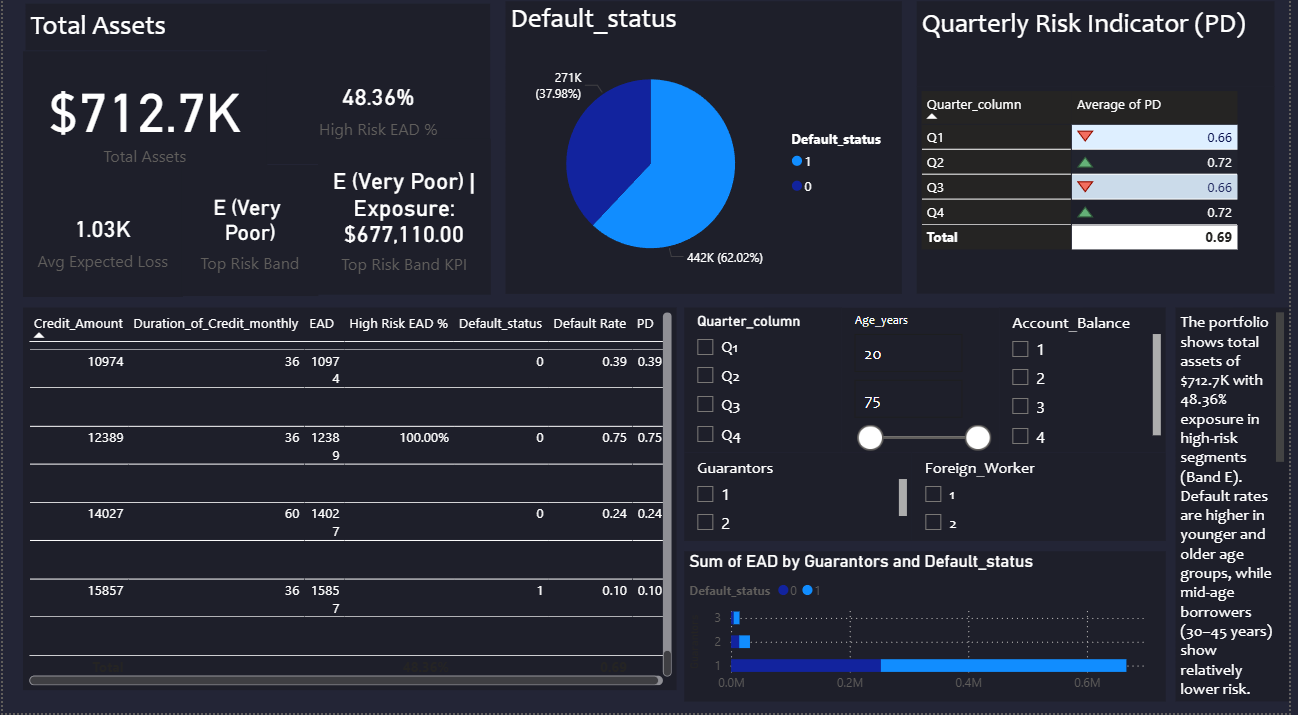

The page's visual inventory and layout, read from the dashboard file:
{"tool":"powerbi","page":{"name":"Page 1","canvas":[1280,720],"ordinal":0},"visuals":[{"type":"card","fields":{"Values":["predictions_with_risk.Total Assets"]},"box":[20.1,60.6,242.9,130.4],"z":0},{"type":"card","fields":{"Values":["predictions_with_risk.High Risk EAD %"]},"box":[262.4,60.1,222.3,113.9],"z":1000},{"type":"card","fields":{"Values":["predictions_with_risk.Avg Expected Loss"]},"box":[19.6,190.4,159.2,115.3],"z":2000},{"type":"card","fields":{"Values":["predictions_with_risk.Top Risk Band"]},"box":[177.9,174.5,135.8,130.4],"z":3000},{"type":"card","fields":{"Values":["predictions_with_risk.Top Risk Band KPI"]},"box":[313.5,148.3,171.7,155.5],"z":4000},{"type":"textbox","box":[22.3,13.4,462.4,46.7],"z":5000},{"type":"pivotTable","fields":{"Rows":["predictions_with_risk.Quarter_column"],"Values":["Avg(predictions_with_risk.PD)"]},"box":[909.3,96,355.8,206.5],"z":6000},{"type":"textbox","box":[909.3,11.4,355.8,84.6],"z":7000},{"type":"pieChart","title":"Default_status","fields":{"Category":["predictions_with_risk.Default_status"],"Y":["Sum(predictions_with_risk.EAD)"]},"box":[500.1,11.4,394.3,291.1],"z":8000},{"type":"tableEx","fields":{"Values":["predictions_with_risk.Credit_Amount","predictions_with_risk.Duration_of_Credit_monthly","predictions_with_risk.EAD","predictions_with_risk.High Risk EAD %","predictions_with_risk.Default_status","predictions_with_risk.Default Rate","predictions_with_risk.PD"]},"box":[19.9,316,650.6,380.7],"z":9000},{"type":"slicer","fields":{"Values":["predictions_with_risk.Quarter_column"]},"box":[678,315.7,156.7,144.3],"z":10000},{"type":"slicer","fields":{"Values":["predictions_with_risk.Age_years"]},"box":[834.7,315.7,156.7,144.3],"z":11000},{"type":"slicer","fields":{"Values":["predictions_with_risk.Account_Balance"]},"box":[991.4,315.7,165.4,144.3],"z":12000},{"type":"slicer","fields":{"Values":["predictions_with_risk.Guarantors"]},"box":[678,460,226.4,88.3],"z":13000},{"type":"slicer","fields":{"Values":["predictions_with_risk.Foreign_Worker"]},"box":[904.4,460,252.5,88.3],"z":14000},{"type":"barChart","fields":{"Category":["predictions_with_risk.Guarantors"],"Y":["Sum(predictions_with_risk.EAD)"],"Series":["predictions_with_risk.Default_status"]},"box":[678,558.5,478.9,149.3],"z":14001},{"type":"textbox","box":[1166.8,316,113.2,391.8],"z":14002}]}

Visuals, with their boxes in screenshot pixels (x1, y1, x2, y2), scaled from the page's 1280x720 canvas onto the 1298x715 screenshot:
card - predictions_with_risk.Total Assets: x1=20 y1=60 x2=267 y2=190
card - predictions_with_risk.High Risk EAD %: x1=266 y1=60 x2=492 y2=173
card - predictions_with_risk.Avg Expected Loss: x1=20 y1=189 x2=181 y2=304
card - predictions_with_risk.Top Risk Band: x1=180 y1=173 x2=318 y2=303
card - predictions_with_risk.Top Risk Band KPI: x1=318 y1=147 x2=492 y2=302
textbox: x1=23 y1=13 x2=492 y2=60
pivotTable - predictions_with_risk.Quarter_column x Avg(predictions_with_risk.PD): x1=922 y1=95 x2=1283 y2=300
textbox: x1=922 y1=11 x2=1283 y2=95
"Default_status" pieChart: x1=507 y1=11 x2=907 y2=300
tableEx - predictions_with_risk.Credit_Amount x predictions_with_risk.Duration_of_Credit_monthly: x1=20 y1=314 x2=680 y2=692
slicer - predictions_with_risk.Quarter_column: x1=688 y1=314 x2=846 y2=457
slicer - predictions_with_risk.Age_years: x1=846 y1=314 x2=1005 y2=457
slicer - predictions_with_risk.Account_Balance: x1=1005 y1=314 x2=1173 y2=457
slicer - predictions_with_risk.Guarantors: x1=688 y1=457 x2=917 y2=544
slicer - predictions_with_risk.Foreign_Worker: x1=917 y1=457 x2=1173 y2=544
barChart - predictions_with_risk.Guarantors x Sum(predictions_with_risk.EAD): x1=688 y1=555 x2=1173 y2=703
textbox: x1=1183 y1=314 x2=1297 y2=703
